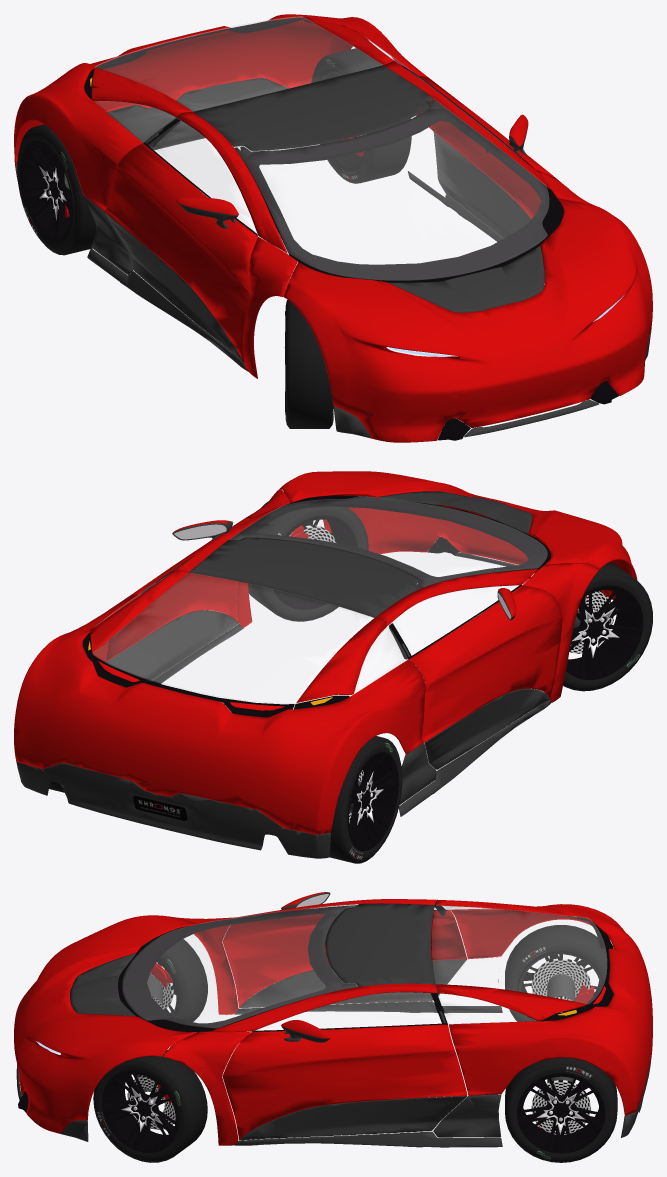
The model's file is sportwagen.glb.
3 renders of one model, top to bottom at view 1: azimuth 30°, elevation 25°; view 2: azimuth 150°, elevation 25°; view 3: azimuth 270°, elevation 25°, orthographic. The views are drawn at different scales.
Parts seen in each view (by area): view 1: BodyHood, BodyWindshield, BodyRearPanelsColor1, BodyRearwindow, BodyDoorRColor1, BodyWindshieldGasket, BodyRoofPanel, BodyPanelsColor2, BodyPillars, BodyHoodTopgrill, object 42, BodyDoorLColor2 (+10 smaller); view 2: BodyRearPanelsColor1, BodyRearwindow, BodyWindshield, BodyPanelsColor2, BodyHood, BodyDoorRColor1, BodyRoofPanel, BodyPillars, BodyWindshieldGasket, WheelFrontRRim, BodyDoorLColor1, BodyDoorLColor2 (+11 smaller); view 3: BodyRearPanelsColor1, BodyWindshield, BodyDoorLColor1, BodyHood, BodyRearwindow, BodyPillars, BodyRoofPanel, BodyPanelsColor2, BodyDoorRColor1, BodyWindshieldGasket, BodyDoorLColor2, object 38 (+16 smaller).
Boxes of the visible parts, bbox=[...] form: BodyHood: bbox=[284, 198, 652, 442]; BodyWindshield: bbox=[234, 98, 548, 280]; BodyRearPanelsColor1: bbox=[14, 14, 435, 211]; BodyRearwindow: bbox=[95, 16, 382, 111]; BodyDoorRColor1: bbox=[104, 143, 257, 363]; BodyWindshieldGasket: bbox=[234, 99, 563, 282]; BodyRoofPanel: bbox=[194, 65, 432, 150]; BodyPanelsColor2: bbox=[15, 78, 651, 438]; BodyPillars: bbox=[176, 61, 599, 378]; BodyHoodTopgrill: bbox=[388, 245, 544, 312]; object 42: bbox=[285, 299, 333, 428]; BodyDoorLColor2: bbox=[434, 132, 544, 271]; BodyRearPanelsColor1: bbox=[14, 569, 425, 834]; BodyRearwindow: bbox=[92, 573, 373, 703]; BodyWindshield: bbox=[229, 496, 547, 587]; BodyPanelsColor2: bbox=[15, 552, 550, 858]; BodyHood: bbox=[277, 471, 637, 599]; BodyDoorRColor1: bbox=[409, 585, 562, 742]; BodyRoofPanel: bbox=[189, 537, 422, 617]; BodyPillars: bbox=[175, 489, 598, 702]; BodyWindshieldGasket: bbox=[230, 495, 550, 587]; WheelFrontRRim: bbox=[566, 585, 643, 679]; BodyDoorLColor1: bbox=[105, 517, 250, 662]; BodyDoorLColor2: bbox=[105, 610, 238, 681]; BodyRearPanelsColor1: bbox=[436, 899, 652, 1115]; BodyWindshield: bbox=[122, 904, 357, 1028]; BodyDoorLColor1: bbox=[222, 1024, 467, 1140]; BodyHood: bbox=[14, 915, 196, 1133]; BodyRearwindow: bbox=[431, 905, 606, 1003]; BodyPillars: bbox=[163, 899, 437, 1145]; BodyRoofPanel: bbox=[326, 903, 434, 986]; BodyPanelsColor2: bbox=[16, 957, 652, 1147]; BodyDoorRColor1: bbox=[222, 909, 467, 1007]; BodyWindshieldGasket: bbox=[118, 905, 357, 1032]; BodyDoorLColor2: bbox=[240, 1096, 467, 1140]; object 38: bbox=[93, 1050, 207, 1162].
Size of the model in its own units: 2.54 by 1.15 by 4.36.
Materials: 16 (5 with a texture image).
